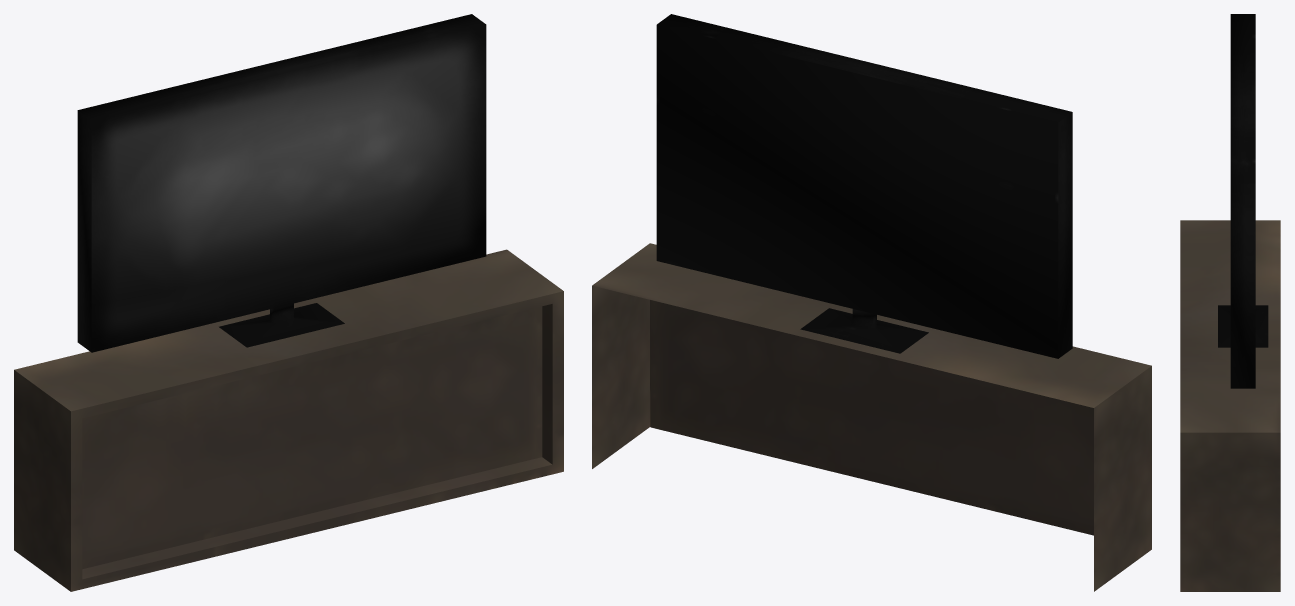
3 renders of one model, left to right at view 1: azimuth 30°, elevation 25°; view 2: azimuth 150°, elevation 25°; view 3: azimuth 270°, elevation 25°, orthographic. The views are drawn at different scales.
Visible parts, largest first — view 1: Cube, Cube.001; view 2: Cube.001, Cube; view 3: Cube, Cube.001.
Part boxes in pixels (left/top/right/bottom): Cube: left=14, top=249, right=563, bottom=591; Cube.001: left=77, top=14, right=486, bottom=352; Cube.001: left=656, top=14, right=1072, bottom=358; Cube: left=592, top=243, right=1151, bottom=591; Cube: left=1180, top=220, right=1280, bottom=591; Cube.001: left=1218, top=14, right=1268, bottom=388.
Size of the model in its own units: 2 by 1.7 by 0.4.
Materials: 1 (1 with a texture image).
